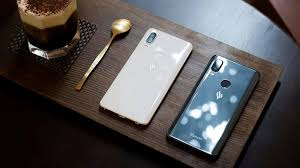vsmart: (95, 23, 196, 126), (167, 50, 260, 160)
